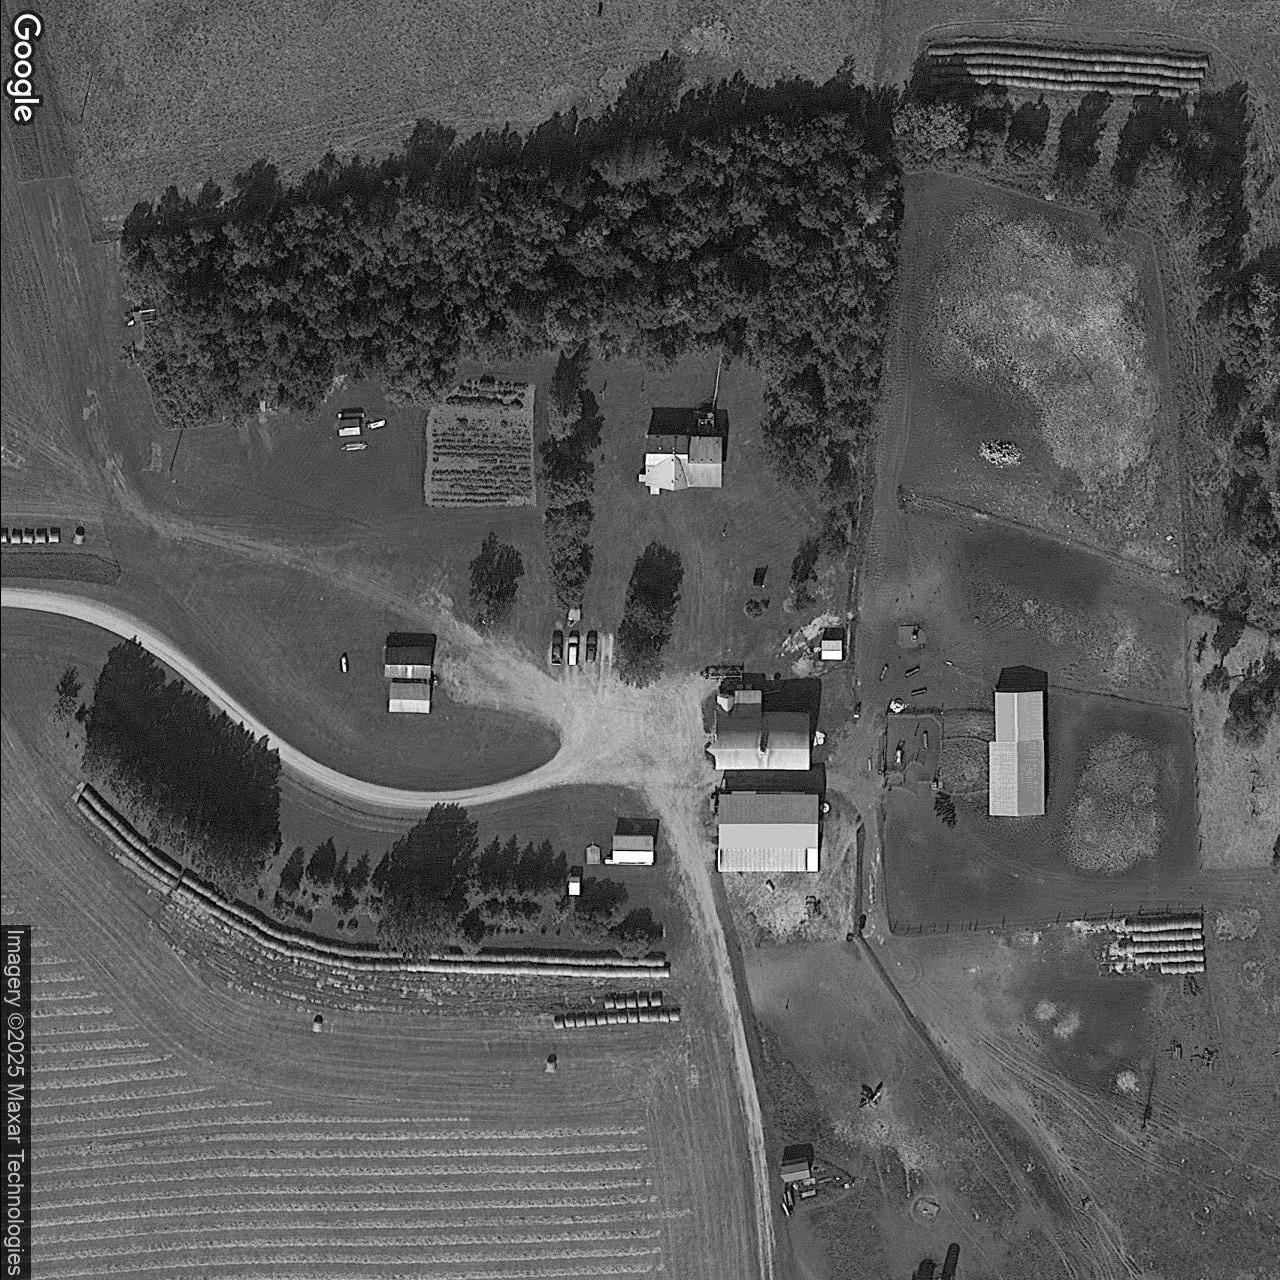Garage: (384, 633, 433, 665), (602, 836, 653, 865), (388, 683, 429, 713), (821, 640, 842, 660)
House: (704, 689, 809, 770), (717, 795, 818, 872), (988, 692, 1043, 816), (638, 434, 721, 495)
Propane: (338, 655, 348, 674)
